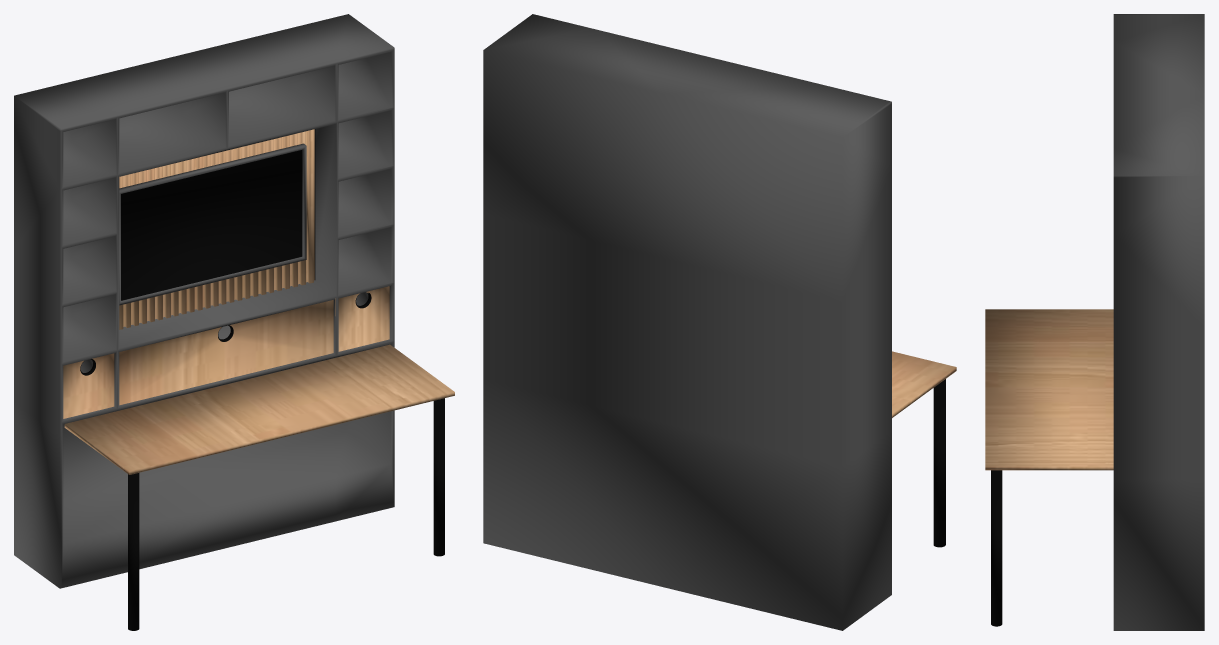
Rendered from bureau.gltf.
3 renders of one model, left to right at view 1: azimuth 30°, elevation 25°; view 2: azimuth 150°, elevation 25°; view 3: azimuth 270°, elevation 25°, orthographic. The views are drawn at different scales.
Visible parts, largest first — view 1: bureau; view 2: bureau; view 3: bureau.
Part boxes in pixels (<box>): bureau: <box>14,14,454,630</box>; bureau: <box>483,14,956,630</box>; bureau: <box>985,14,1204,630</box>.
Size of the model in its own units: 1685 by 2212 by 966.
3 materials, 1 textured.
